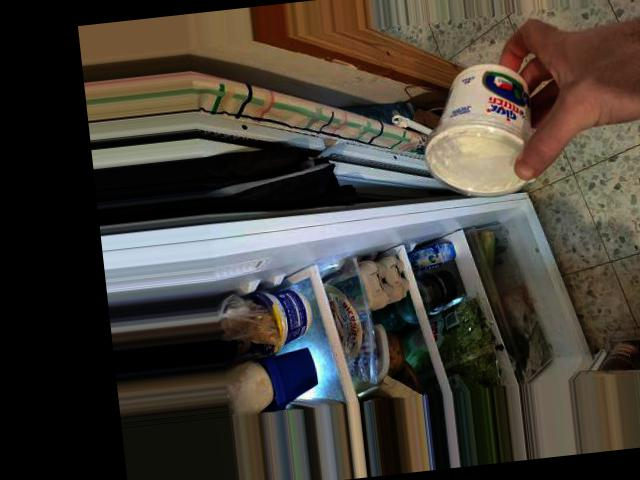cotage: (424, 60, 553, 174)
